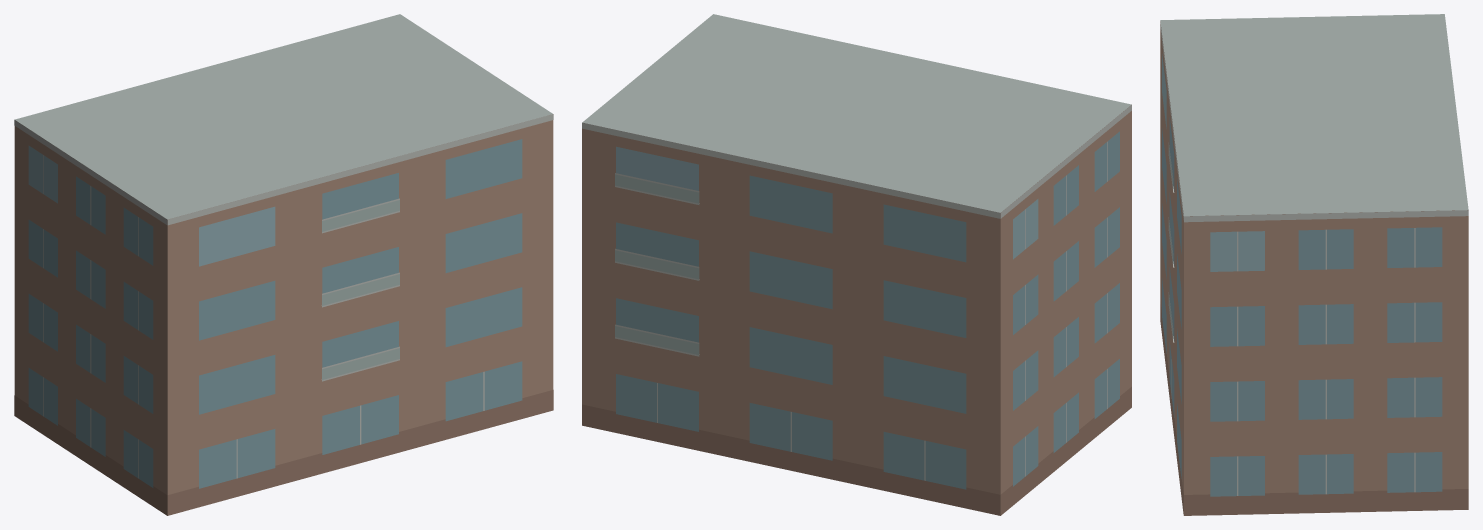
The model's file is residential-e2b520cf-f74f-4e59-95a6-714bff01bf7c.glb.
The picture shows the model from 3 angles, left to right: view 1: azimuth 30°, elevation 25°; view 2: azimuth 150°, elevation 25°; view 3: azimuth 270°, elevation 25°; orthographic projection. The views are drawn at different scales.
Parts seen in each view (by area): view 1: residential-e2b520cf-f74f-4e59-95a6-714bff01bf7c.tmp; view 2: residential-e2b520cf-f74f-4e59-95a6-714bff01bf7c.tmp; view 3: residential-e2b520cf-f74f-4e59-95a6-714bff01bf7c.tmp.
Boxes of the visible parts, x1,y1,x2,y2 form: residential-e2b520cf-f74f-4e59-95a6-714bff01bf7c.tmp: [14, 14, 553, 515]; residential-e2b520cf-f74f-4e59-95a6-714bff01bf7c.tmp: [582, 14, 1131, 515]; residential-e2b520cf-f74f-4e59-95a6-714bff01bf7c.tmp: [1160, 14, 1468, 515].
Size of the model in its own units: 17.67 by 12.2 by 11.39.
